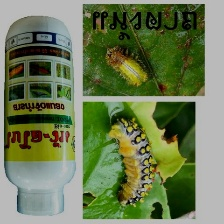insecticide: (1, 13, 76, 217)
